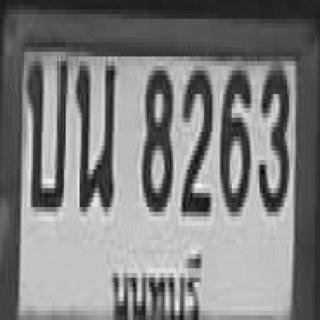A25: (74, 59, 114, 209)
A26: (25, 56, 66, 207)
N02: (180, 66, 211, 212)
N03: (258, 66, 287, 207)
N06: (218, 66, 249, 212)
N08: (140, 66, 171, 207)
P37: (106, 245, 208, 320)
